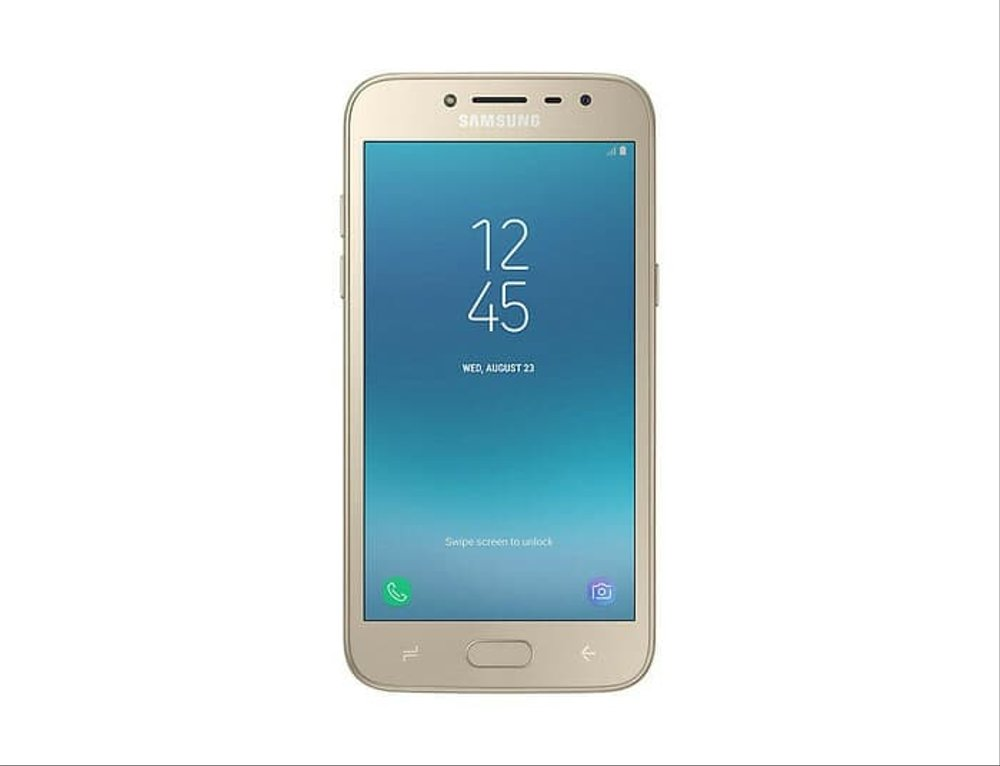Handphone: (331, 66, 660, 699)
